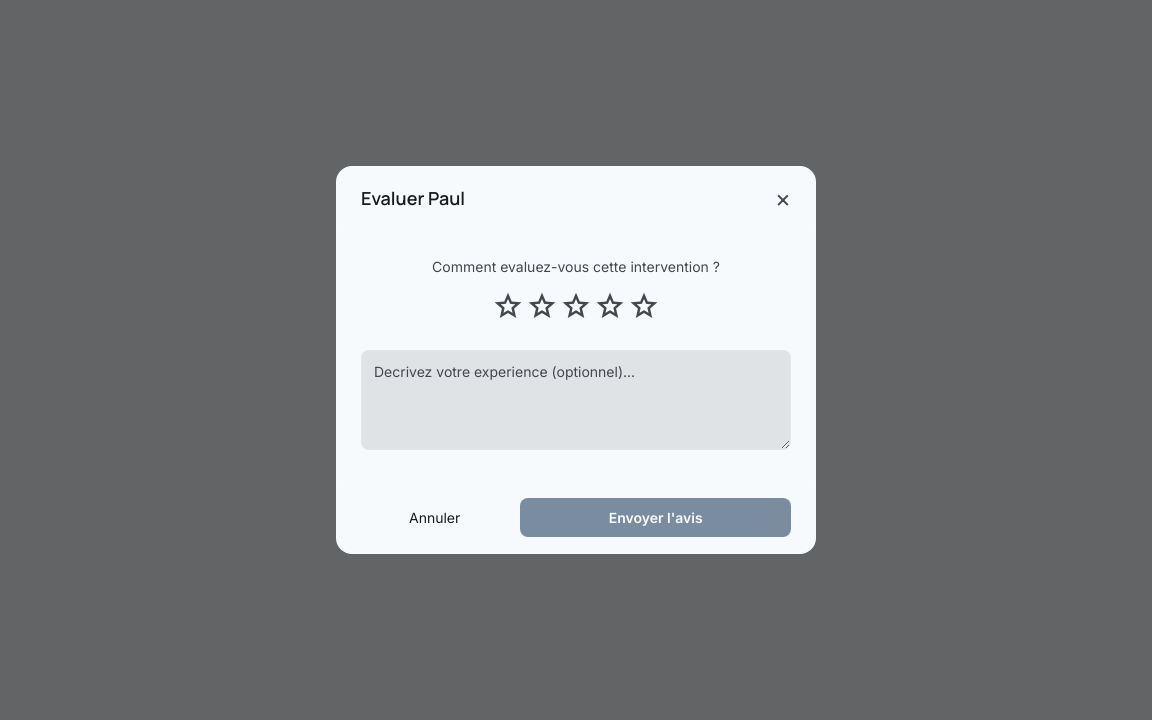
it: ReviewModal › affiche l'erreur serveur (avis en double) sans fermer la fenêtre
Click the 5th text "star". click: (644, 306)
box: [628,290,660,322]
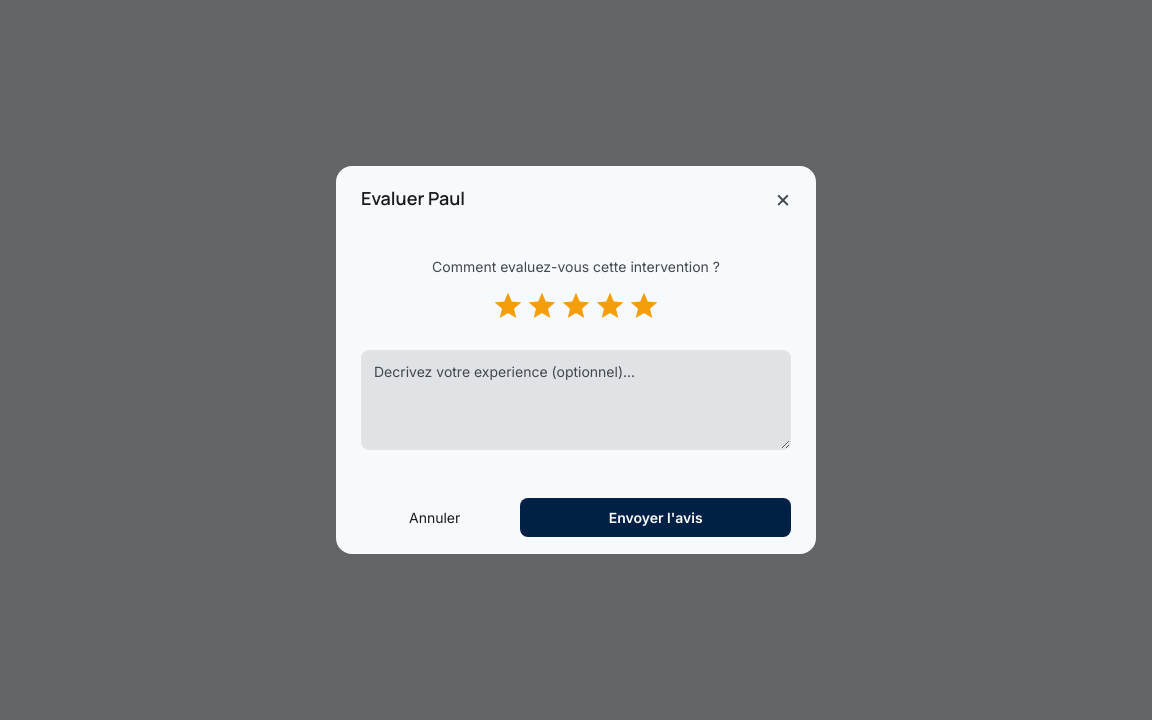
Click the button "Envoyer l'avis". click: (656, 518)
box: [520,498,791,537]
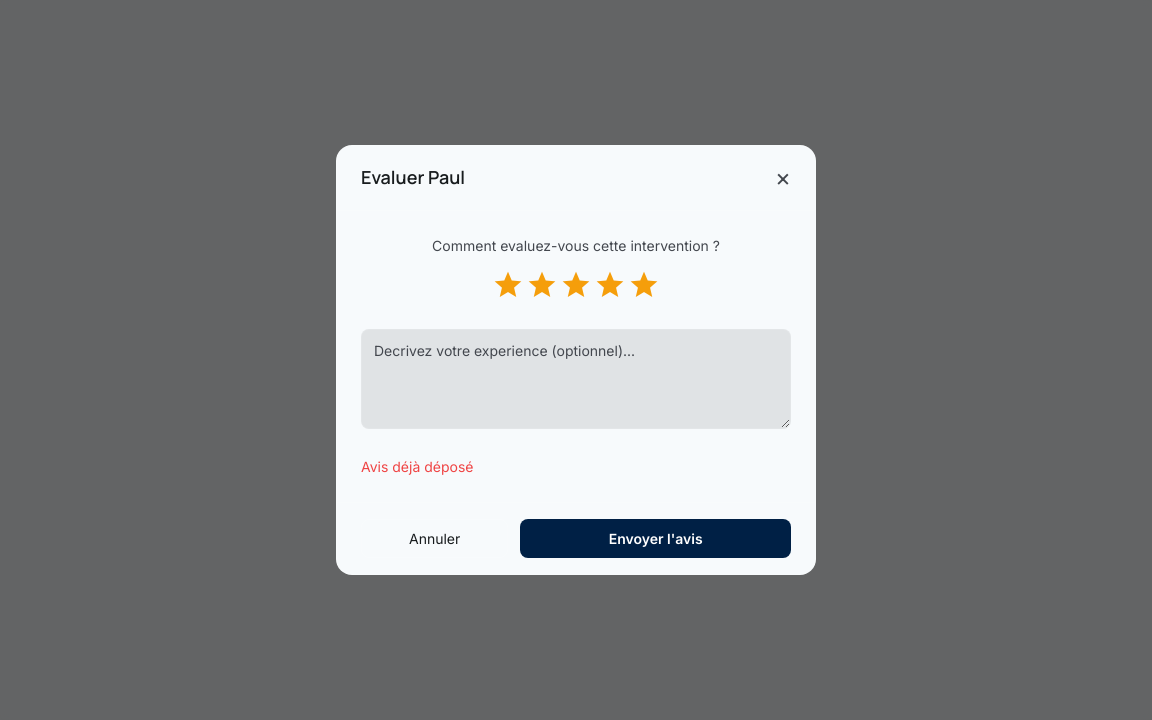
Result: the text "Avis déjà déposé" is shown at [361,458,474,475]
